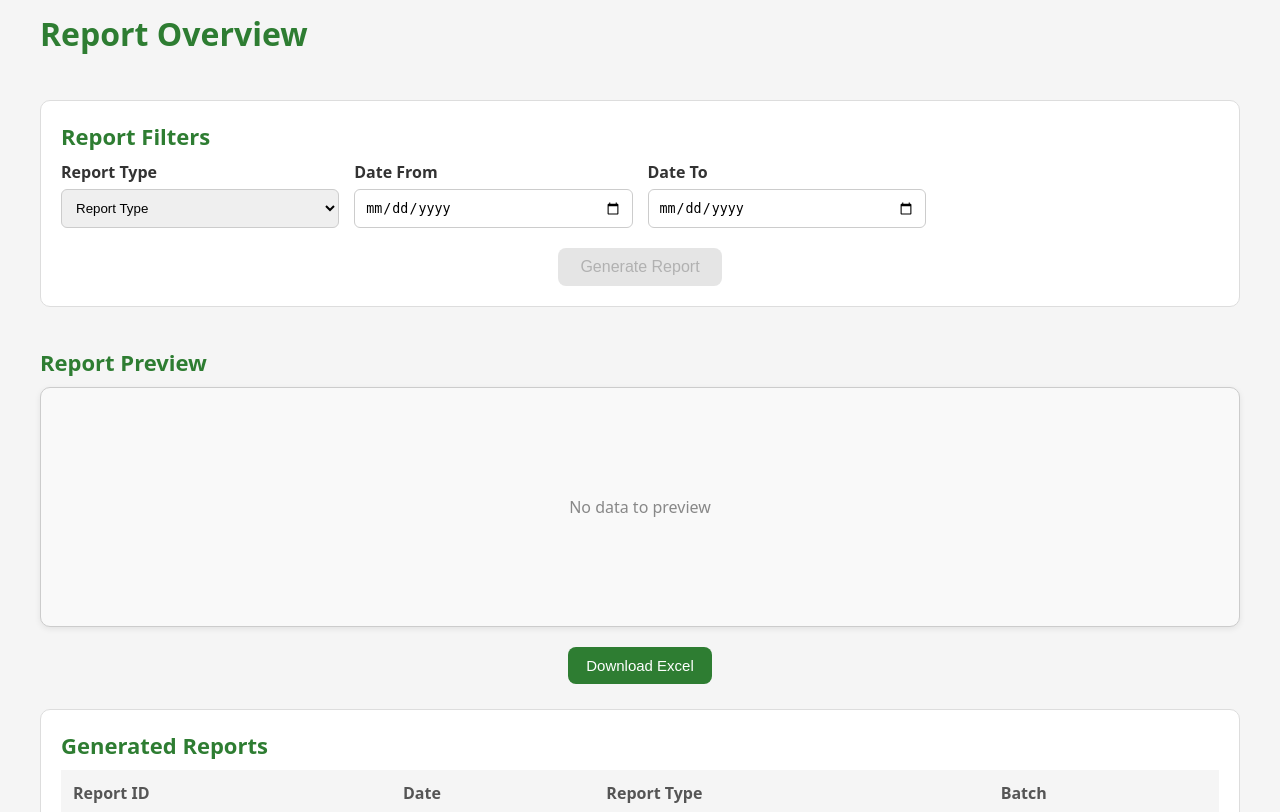
Test: Reports Component › selects report type and enables generation
Select "Batch Report" in the dropdown showing "Report Type" at coordinates (200, 208), box [61,189,339,228]
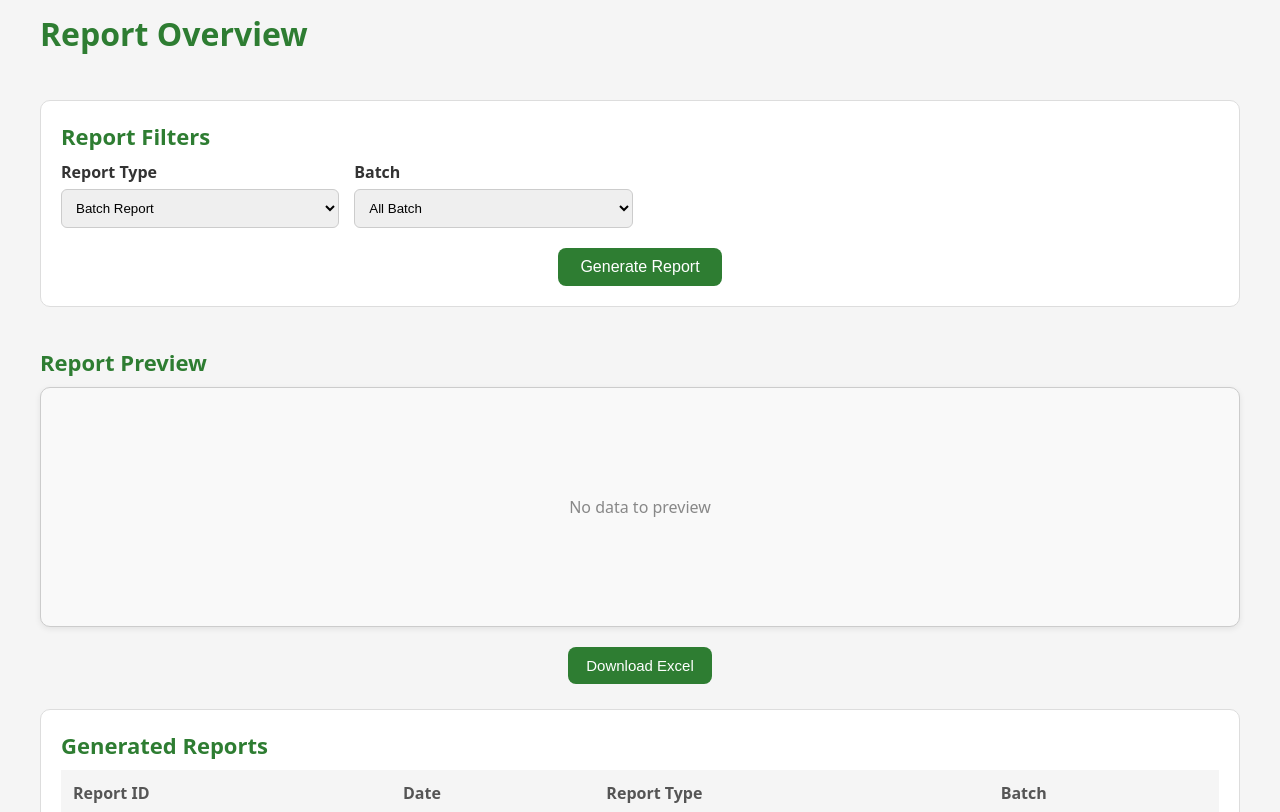
Now the button "Generate Report" is enabled, box [558,248,722,286]
